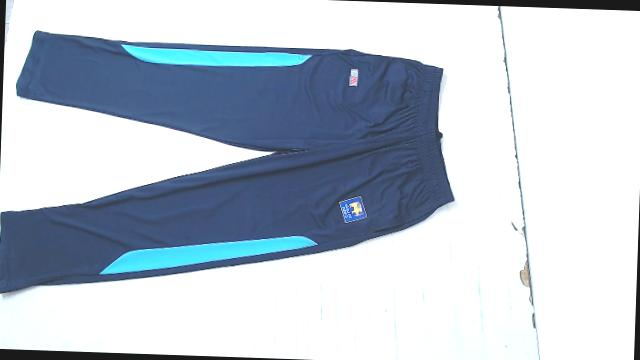new-garment: (0, 31, 454, 293)
